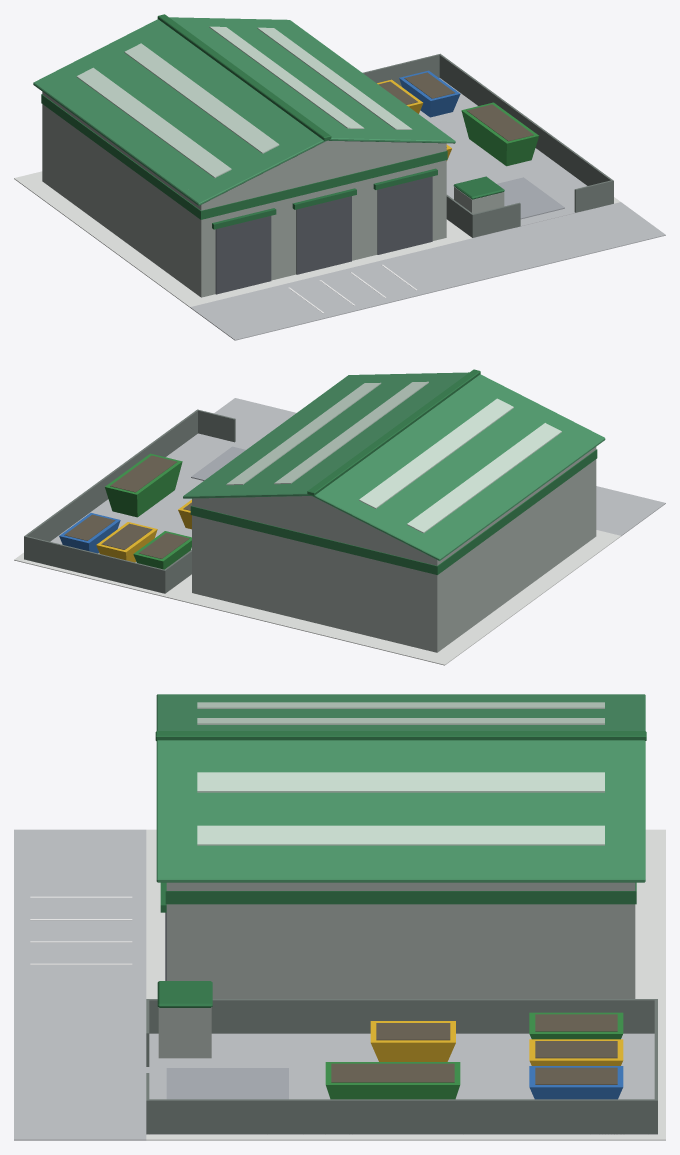
File: garbage.glb
The picture shows the model from 3 angles, top to bottom: view 1: azimuth 30°, elevation 25°; view 2: azimuth 150°, elevation 25°; view 3: azimuth 270°, elevation 25°; orthographic projection. The views are drawn at different scales.
Visible parts, largest first — view 1: garbage; view 2: garbage; view 3: garbage.
Part boxes in pixels (x1,y1,x2,y2): garbage: (14, 14, 665, 340); garbage: (14, 369, 665, 665); garbage: (14, 694, 665, 1140).
Bounding box in the file's own units: 36 × 10.75 × 32.
